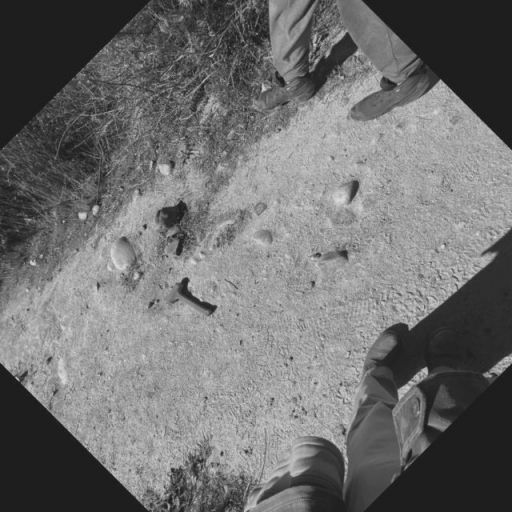mallet: (161, 278, 213, 330)
